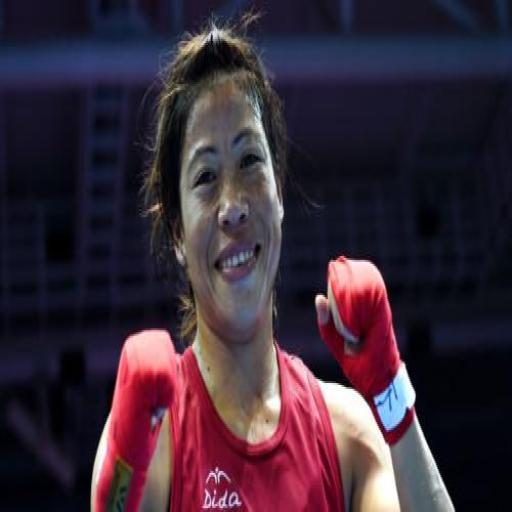boxing: (88, 10, 459, 510)
